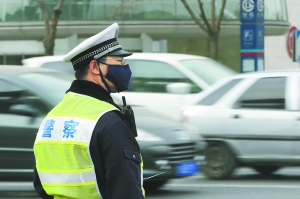face_mask: (104, 51, 131, 91)
